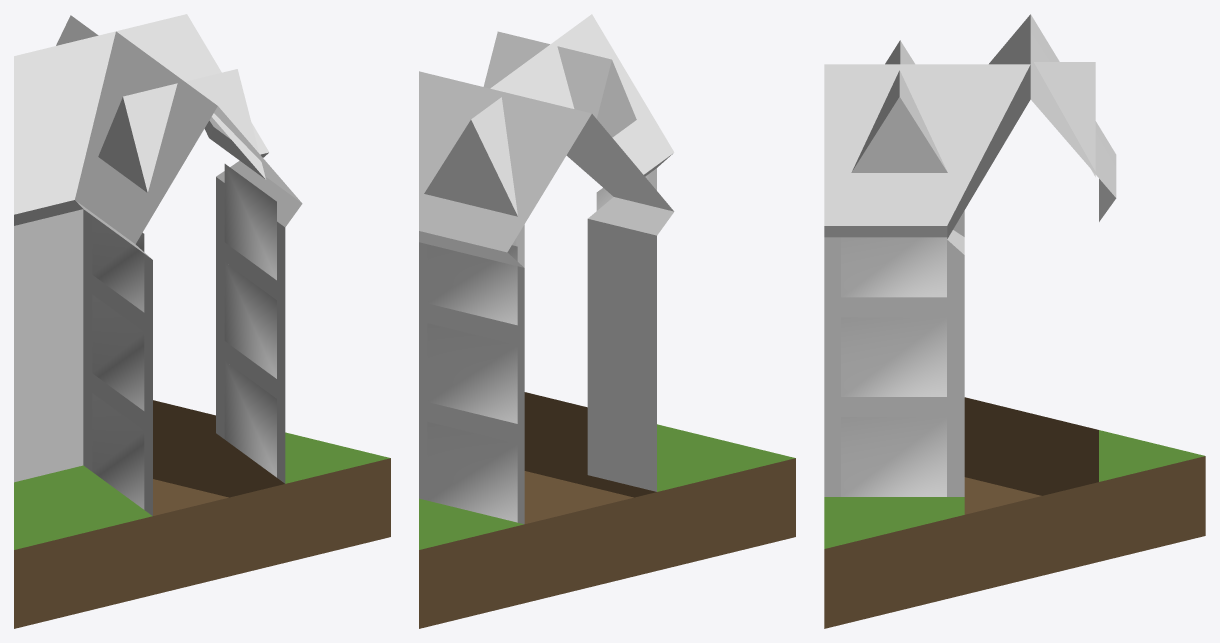
Rendered from Pis_Interseccio_PE_PD_PE.fbx.
3 renders of one model, left to right at view 1: azimuth 30°, elevation 25°; view 2: azimuth 150°, elevation 25°; view 3: azimuth 270°, elevation 25°, orthographic.
Parts seen in each view (by area): view 1: Pis_Interseccio_PE_PD_PE, DetallTeulada.034, DetallParet.069, DetallParet.065, DetallParet.066, DetallParet.068, DetallParet.067, DetallTeulada.033, DetallParet.070, DetallTeulada.035; view 2: Pis_Interseccio_PE_PD_PE, DetallParet.063, DetallParet.064, DetallTeulada.035, DetallParet.062, DetallTeulada.034, DetallTeulada.033; view 3: Pis_Interseccio_PE_PD_PE, DetallParet.065, DetallParet.066, DetallParet.067, DetallTeulada.033, DetallTeulada.035.
Part boxes in pixels (bbox=[...]): Pis_Interseccio_PE_PD_PE: bbox=[14, 14, 390, 628]; DetallTeulada.034: bbox=[98, 83, 177, 192]; DetallParet.069: bbox=[92, 294, 144, 410]; DetallParet.065: bbox=[224, 361, 276, 477]; DetallParet.066: bbox=[224, 262, 276, 378]; DetallParet.068: bbox=[92, 393, 144, 509]; DetallParet.067: bbox=[224, 164, 276, 280]; DetallTeulada.033: bbox=[185, 69, 265, 179]; DetallParet.070: bbox=[92, 216, 144, 312]; DetallTeulada.035: bbox=[56, 15, 98, 45]; Pis_Interseccio_PE_PD_PE: bbox=[419, 14, 795, 628]; DetallParet.063: bbox=[427, 323, 517, 423]; DetallParet.064: bbox=[427, 422, 517, 522]; DetallTeulada.035: bbox=[424, 97, 517, 216]; DetallParet.062: bbox=[427, 244, 517, 325]; DetallTeulada.034: bbox=[557, 46, 636, 137]; DetallTeulada.033: bbox=[483, 31, 549, 88]; Pis_Interseccio_PE_PD_PE: bbox=[824, 14, 1205, 628]; DetallParet.065: bbox=[841, 417, 946, 496]; DetallParet.066: bbox=[841, 317, 946, 396]; DetallParet.067: bbox=[841, 237, 946, 297]; DetallTeulada.033: bbox=[851, 70, 947, 172]; DetallTeulada.035: bbox=[1034, 62, 1095, 176].
Bounding box in the file's own units: 100 × 120 × 86.61.
